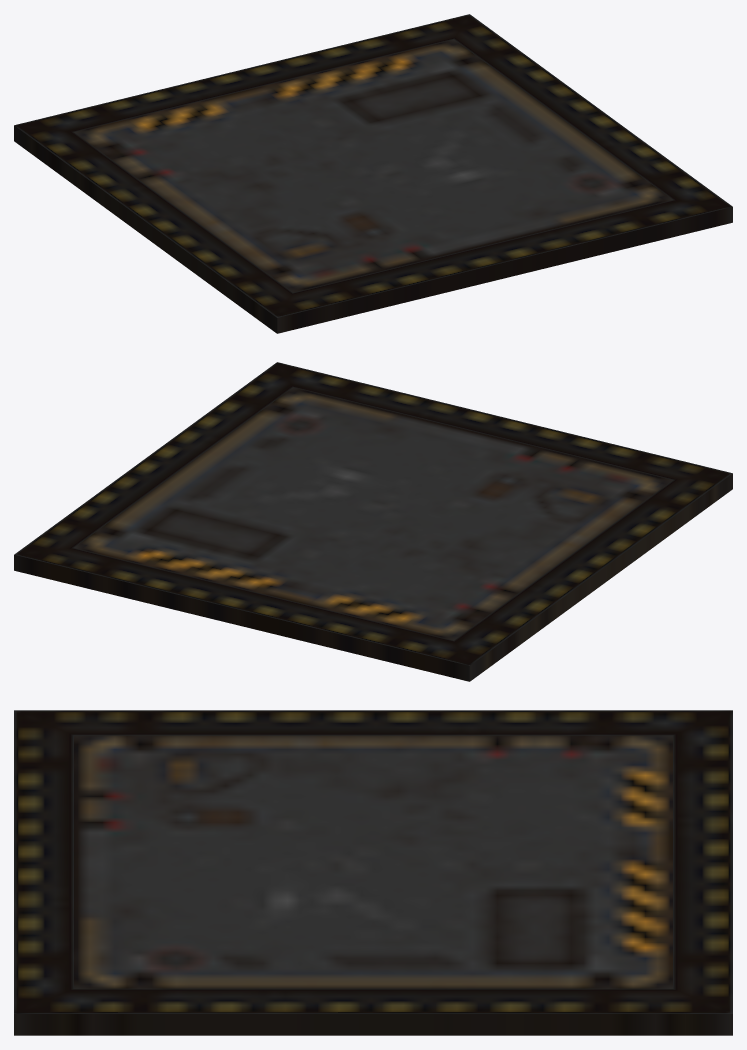
File: Floor_03.FBX
The picture shows the model from 3 angles, top to bottom: view 1: azimuth 30°, elevation 25°; view 2: azimuth 150°, elevation 25°; view 3: azimuth 270°, elevation 25°; orthographic projection. The views are drawn at different scales.
Visible parts, largest first — view 1: Floor_03; view 2: Floor_03; view 3: Floor_03.
Part boxes in pixels (left/top/right/bottom): Floor_03: left=14, top=14, right=732, bottom=333; Floor_03: left=14, top=362, right=732, bottom=681; Floor_03: left=14, top=710, right=732, bottom=1035.
Bounding box in the file's own units: 300 × 10 × 300.
